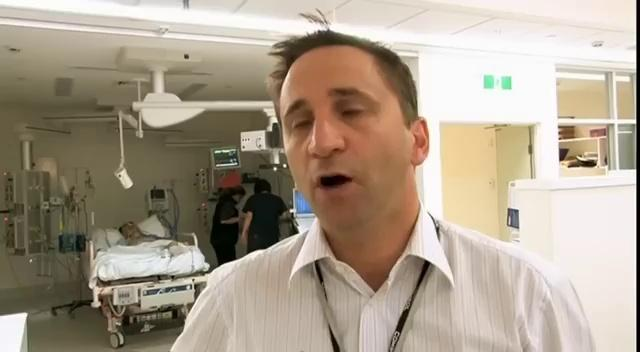others: (168, 15, 596, 350), (240, 177, 289, 254), (208, 171, 246, 267)
patient: (114, 219, 193, 258)
